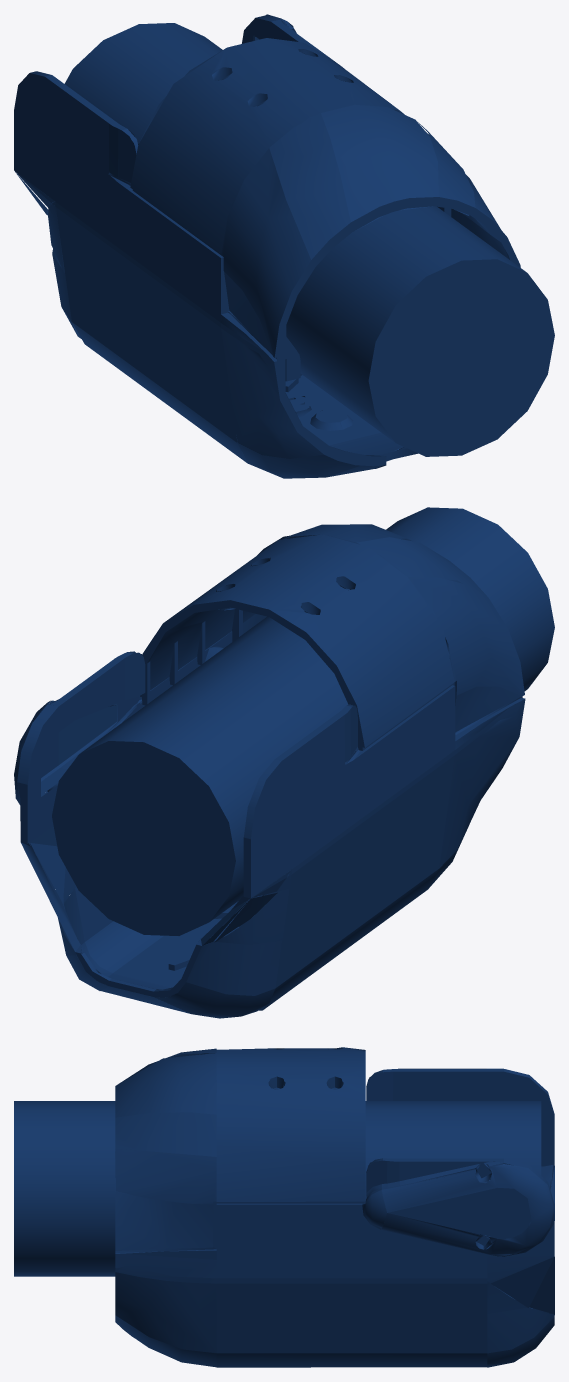
The model's file is icub_r_arm.dae.
3 views of the same model, one above another, from view 1: azimuth 30°, elevation 25°; view 2: azimuth 150°, elevation 25°; view 3: azimuth 270°, elevation 25° (orthographic). The views are drawn at different scales.
Visible parts, largest first — view 1: r_upperarm_mesh, r_arm_cyl_mesh; view 2: r_upperarm_mesh, r_arm_cyl_mesh; view 3: r_upperarm_mesh, r_arm_cyl_mesh.
Part boxes in pixels (x1,y1,x2,y2): r_upperarm_mesh: [14, 14, 520, 478]; r_arm_cyl_mesh: [64, 23, 554, 456]; r_upperarm_mesh: [14, 524, 525, 1018]; r_arm_cyl_mesh: [52, 507, 554, 935]; r_upperarm_mesh: [115, 1047, 554, 1367]; r_arm_cyl_mesh: [14, 1101, 541, 1276].
Size of the model in its own units: 0.0716 by 0.0916 by 0.1601.
